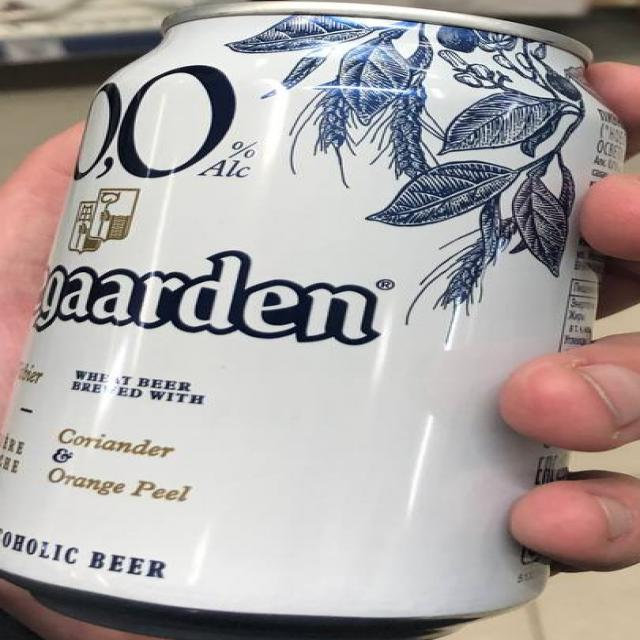Hoegaarden: (1, 1, 640, 640)
